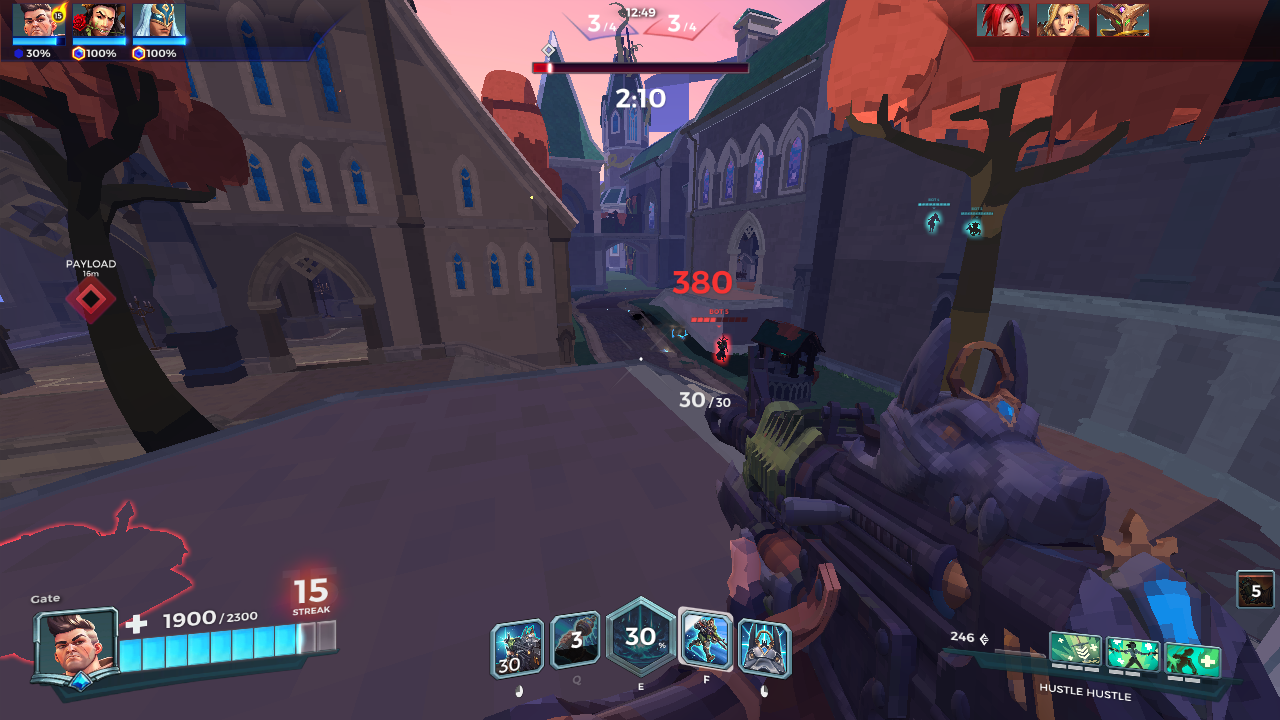model: (705, 330, 737, 375)
